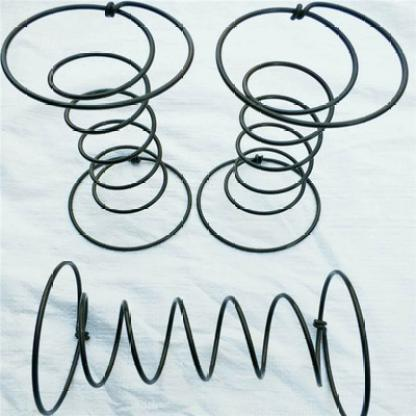FOD: (28, 255, 374, 415), (0, 0, 195, 252)
